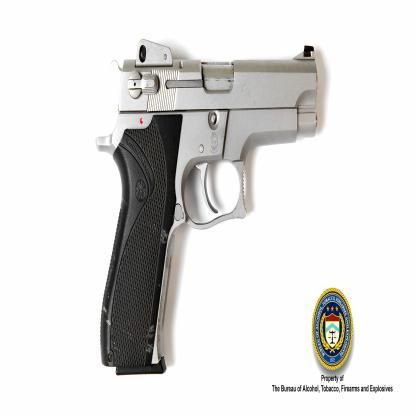Pistol: (96, 40, 321, 382)
